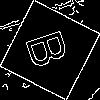B: (25, 25, 79, 71)
